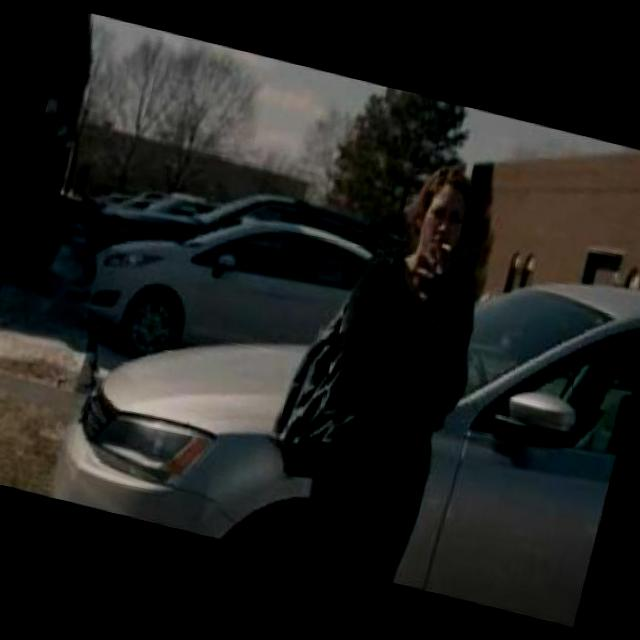smoke: (436, 241, 454, 258)
